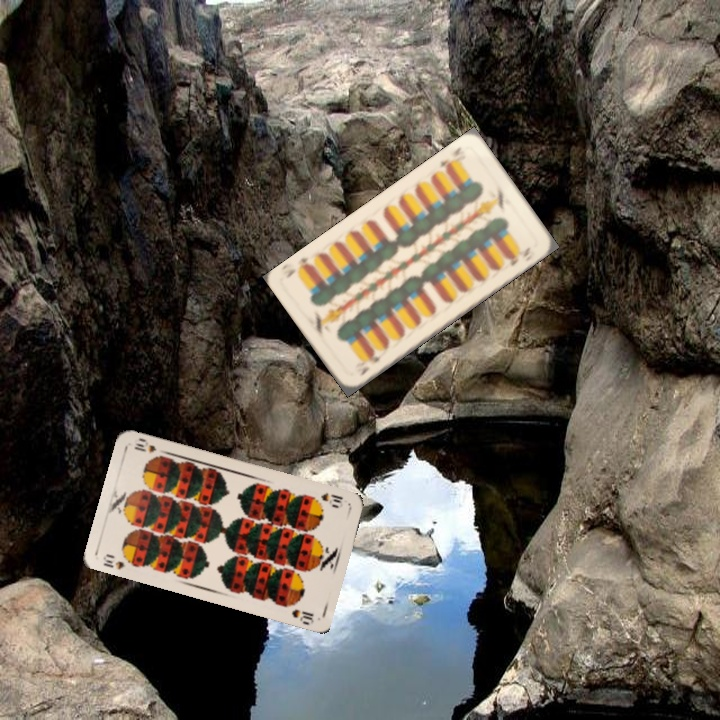E10: (436, 143, 464, 174), (356, 349, 384, 378)
S10: (99, 550, 136, 572), (317, 489, 345, 506)
